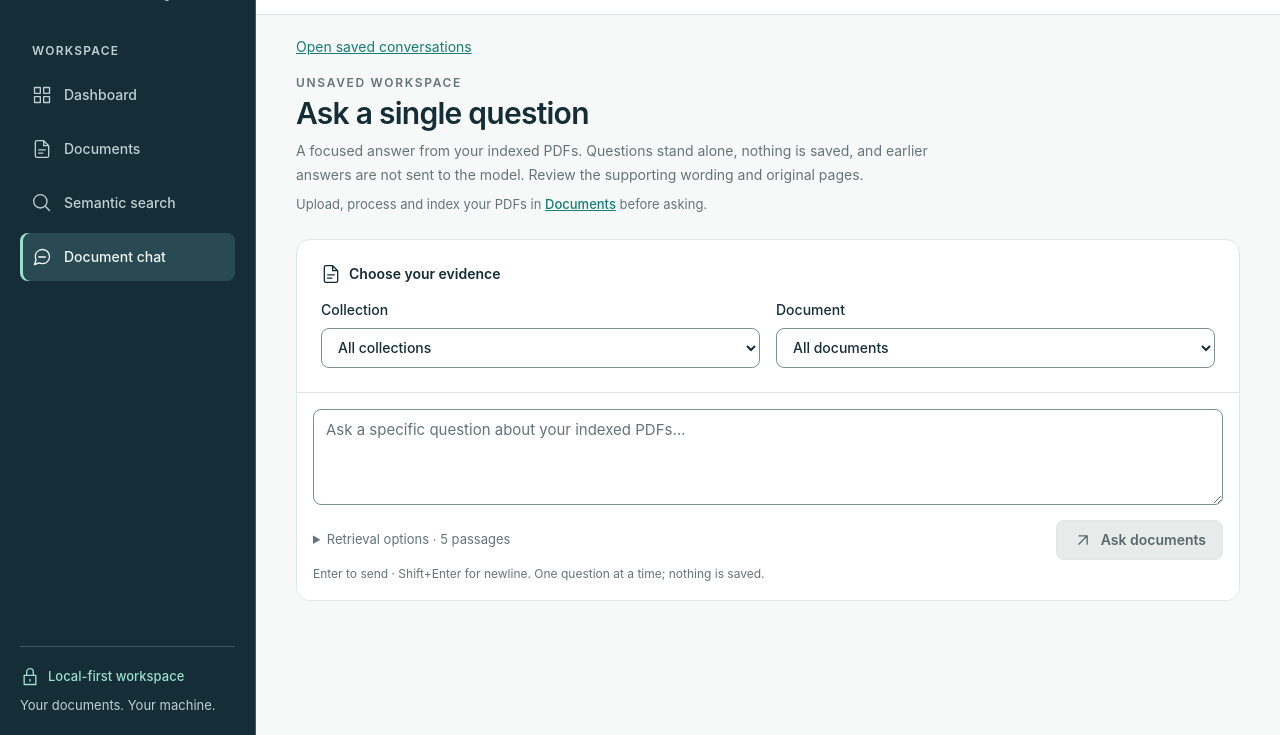
Scenario: Document chat › renders model output, filenames and excerpts as inert text
Type "How long are backups retained?" into the text box named "Your question" at {"x": 768, "y": 456}, box [313, 408, 1223, 504]
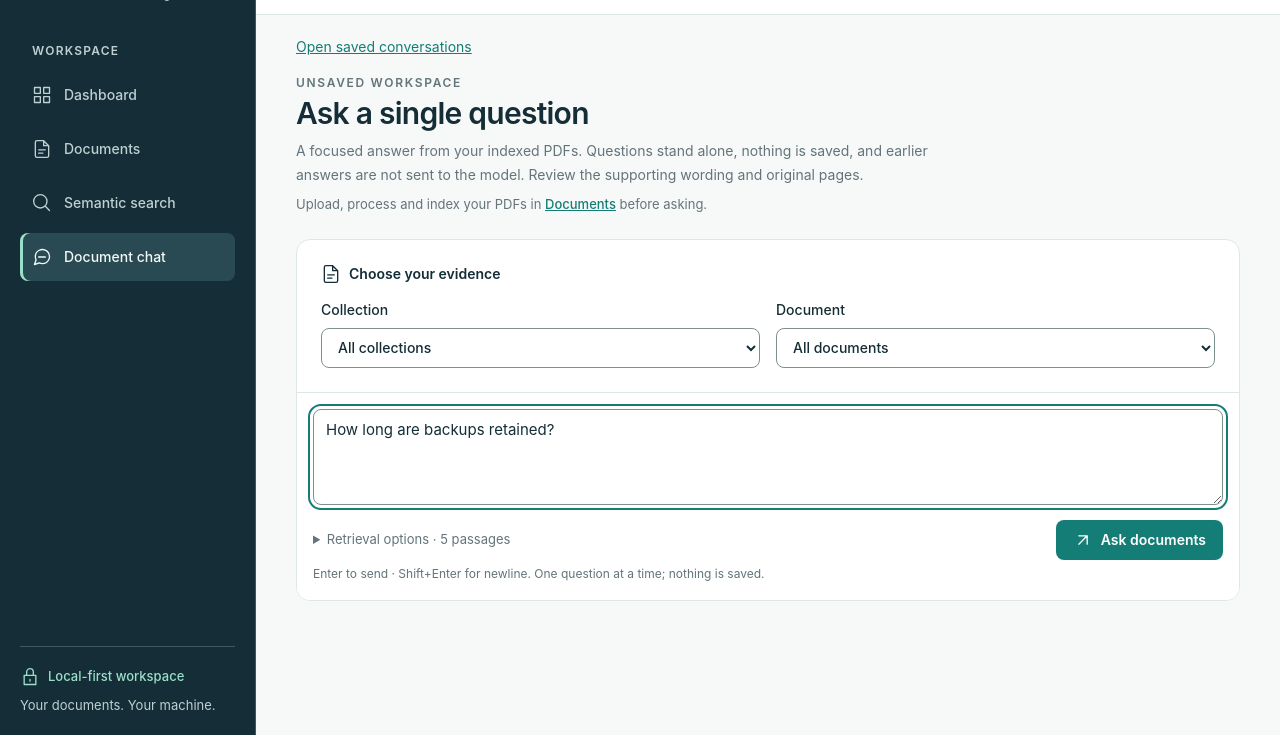
Click the button "Ask documents" at {"x": 1139, "y": 540}, box [1056, 520, 1223, 560]
(page scrolled)
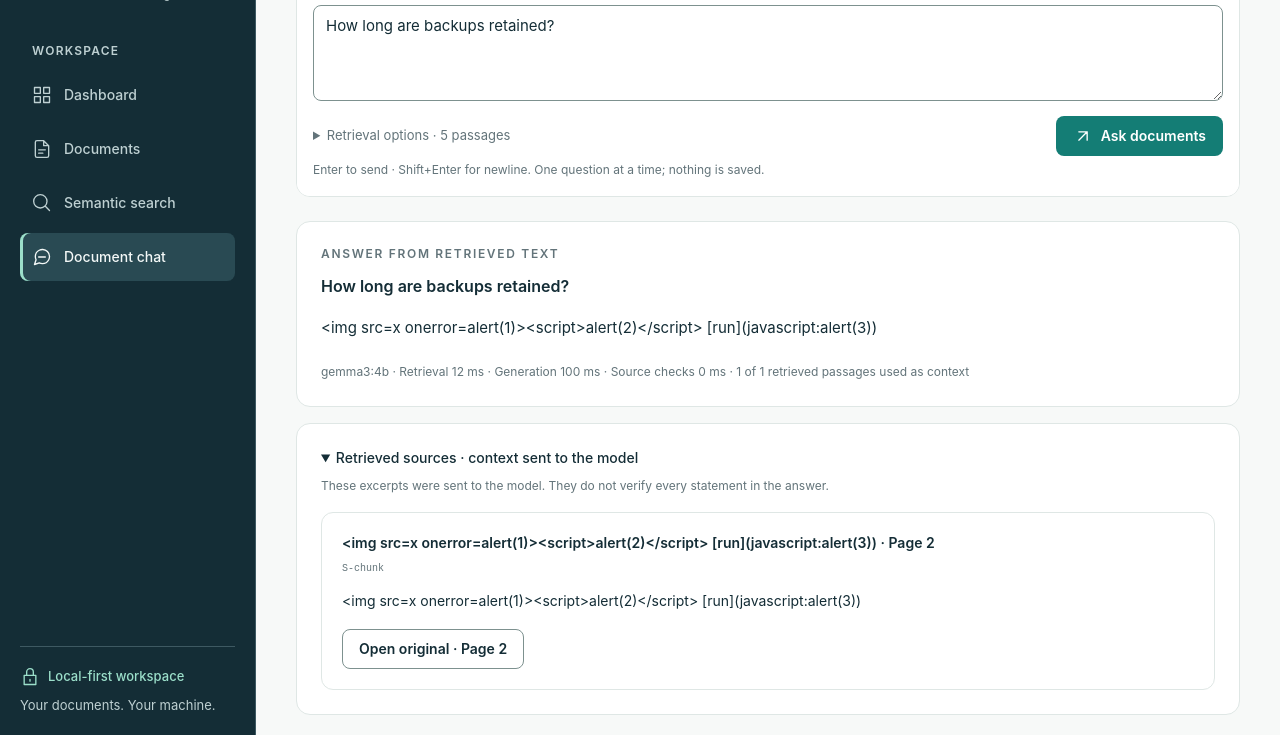
Now the element named "Document answer" is shown, box [296, 220, 1240, 714]
Now the text "<img src=x onerror=alert(1)><script>alert(2)</script> [run](javascript:alert(3))" is shown 2 times, box [321, 318, 877, 336]; [342, 592, 861, 608]
